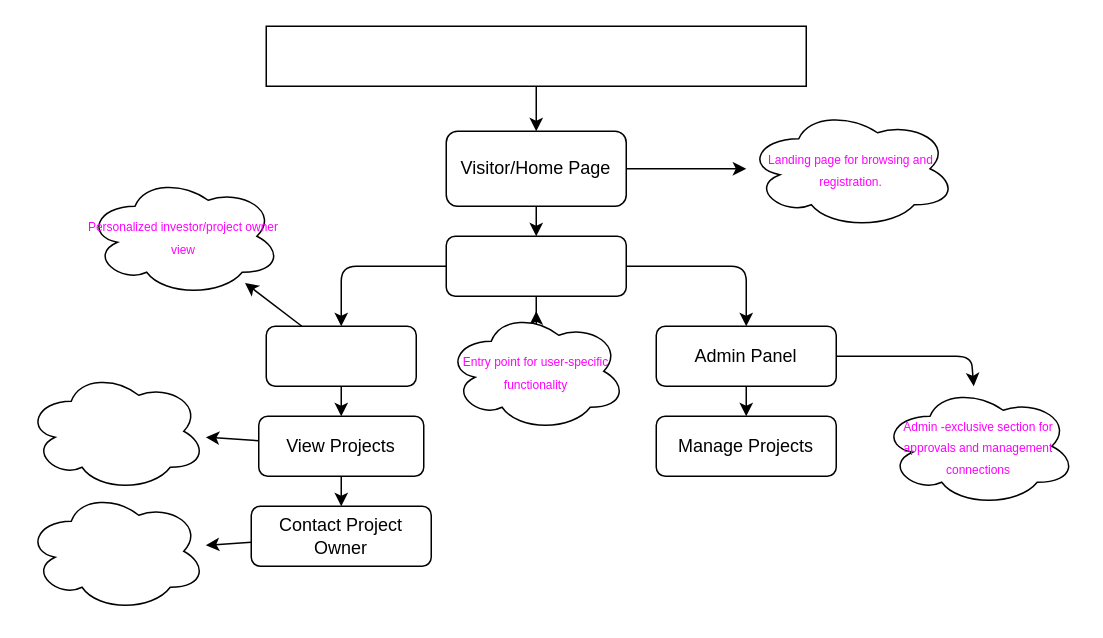
Image size: 1103x638. Some labels were removed from this diagram. Here are the shapes that lost their labels. From the top down, the centre of each, then its label:
the point at 535,55: High-Level Flowchart for Eritrean- Global Inverstment Platgform
the point at 535,265: Login/Register
the point at 340,355: User Dashboard
the point at 115,430: Access detailed listings with search an d filters
the point at 115,550: Communication step (chat or form)
